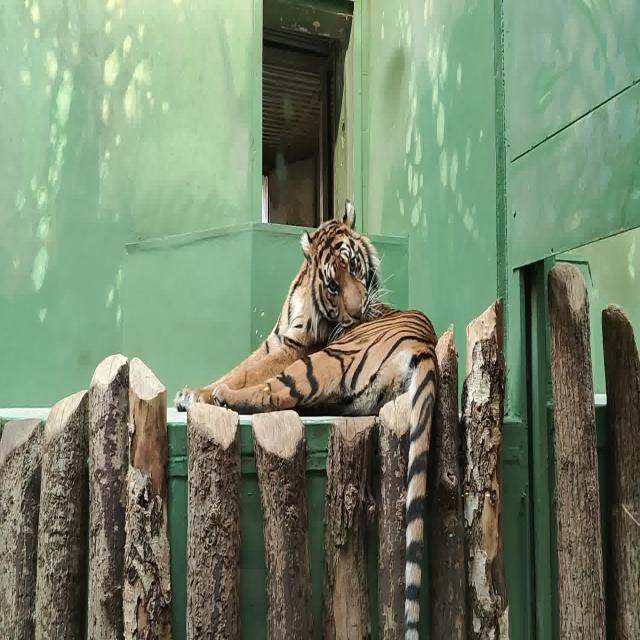tiger: (174, 198, 438, 640)
